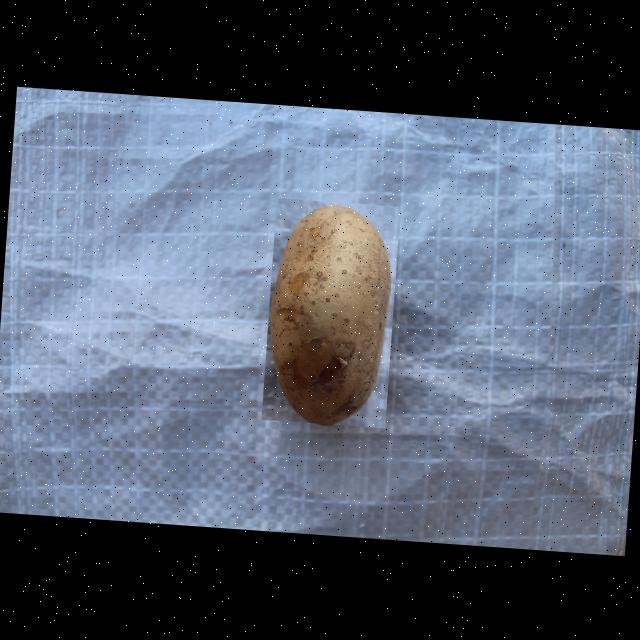Diseased-fungal potato: (260, 196, 399, 426)
